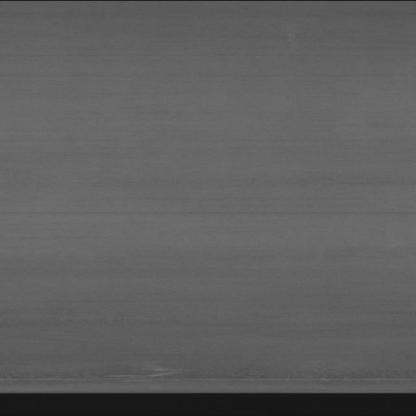silk_spot: (78, 351, 198, 389)
